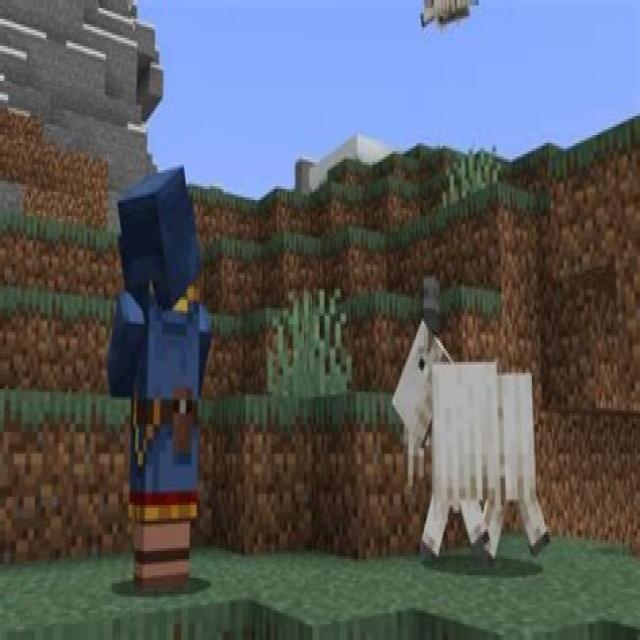Goat: (380, 280, 558, 568)
